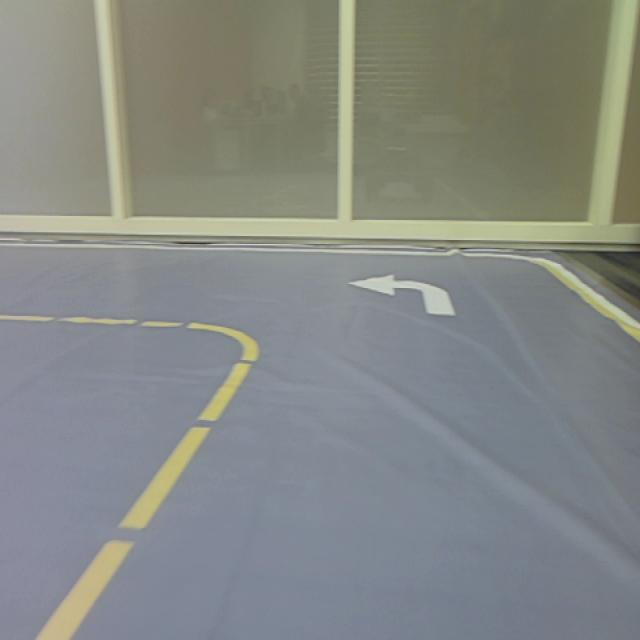left_lane: (35, 352, 257, 638)
right_lane: (543, 263, 640, 344)
